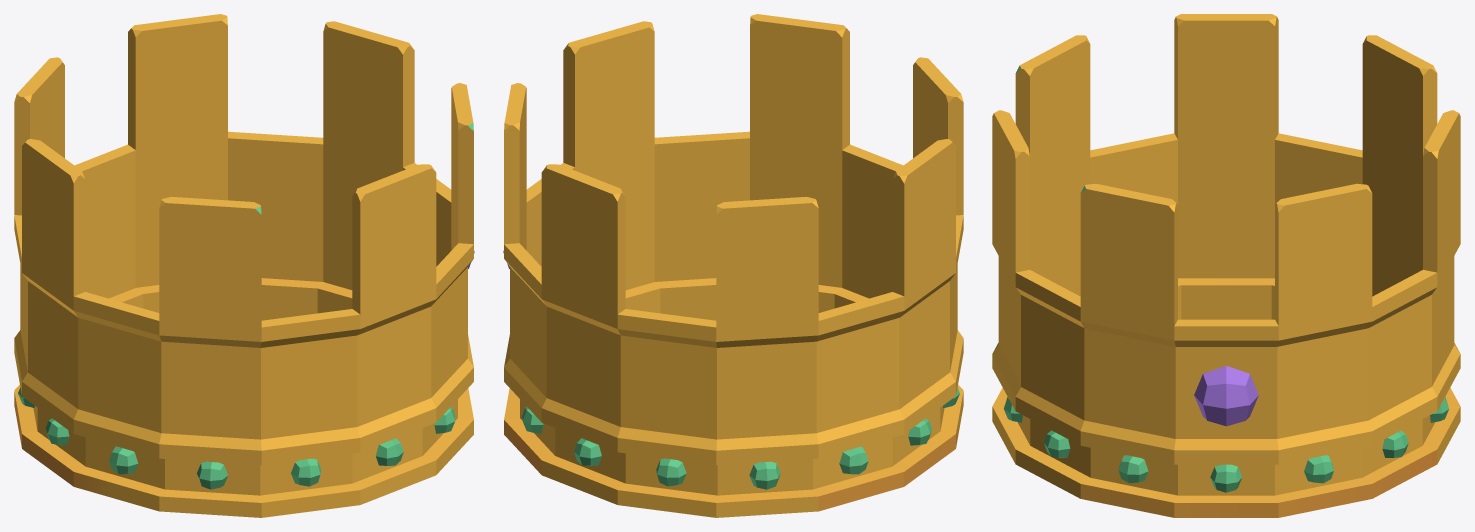
Rendered from сrown.glb.
3 views of the same model, side by side, from view 1: azimuth 30°, elevation 25°; view 2: azimuth 150°, elevation 25°; view 3: azimuth 270°, elevation 25° (orthographic).
Parts seen in each view (by area): view 1: Корона; view 2: Корона; view 3: Корона.
Boxes of the visible parts, <box> form: Корона: <box>14,14,474,517</box>; Корона: <box>503,14,963,517</box>; Корона: <box>992,14,1460,517</box>.
Size of the model in its own units: 0.7764 by 0.5418 by 0.739.
Materials: 1 (1 with a texture image).
